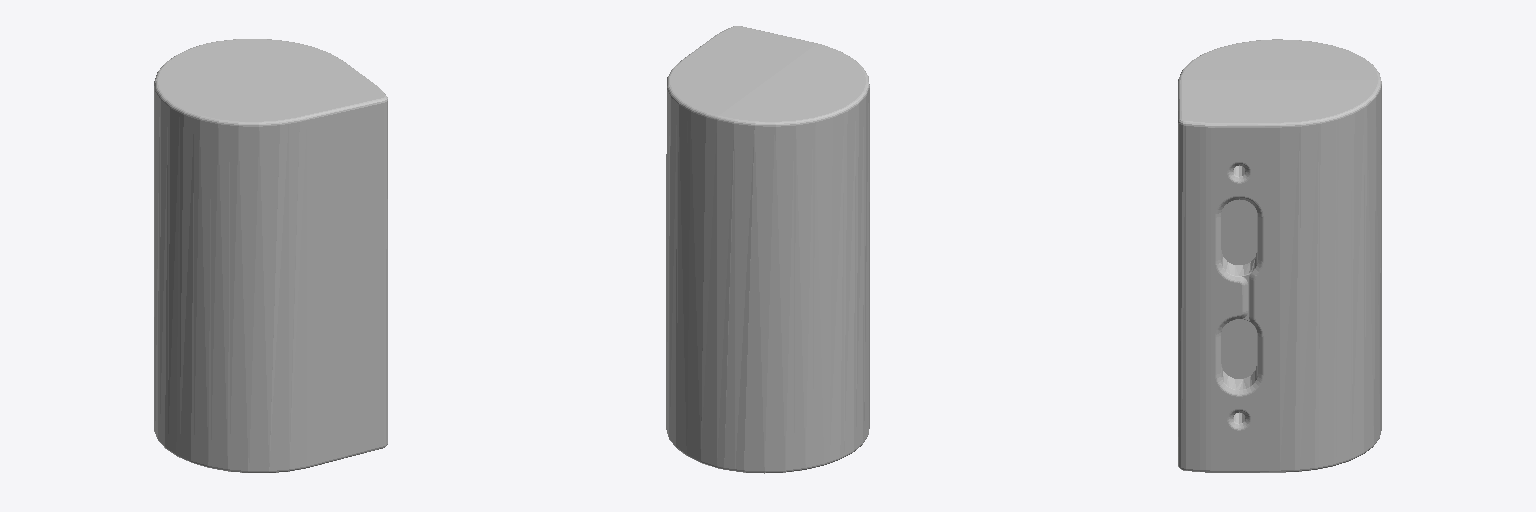
File: head_tilt_link.obj
3 renders of one model, left to right at view 1: azimuth 30°, elevation 25°; view 2: azimuth 150°, elevation 25°; view 3: azimuth 270°, elevation 25°, orthographic.
Parts seen in each view (by area): view 1: head_tilt_link_head tilt link.001_Material_001.030; view 2: head_tilt_link_head tilt link.001_Material_001.030; view 3: head_tilt_link_head tilt link.001_Material_001.030.
Part boxes in pixels (x1,y1,x2,y2): head_tilt_link_head tilt link.001_Material_001.030: (154, 39, 387, 472); head_tilt_link_head tilt link.001_Material_001.030: (666, 26, 869, 473); head_tilt_link_head tilt link.001_Material_001.030: (1178, 39, 1381, 472).
Size of the model in its own units: 0.1099 by 0.21 by 0.11.